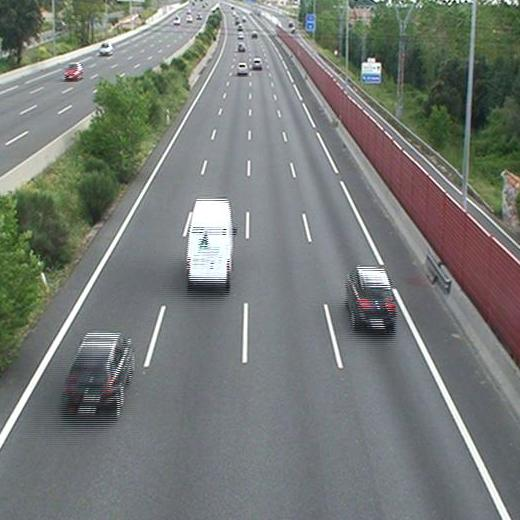car: (66, 333, 131, 403), (347, 266, 396, 329), (237, 63, 248, 75), (252, 58, 262, 69), (238, 42, 246, 53)
van: (187, 198, 233, 284)
